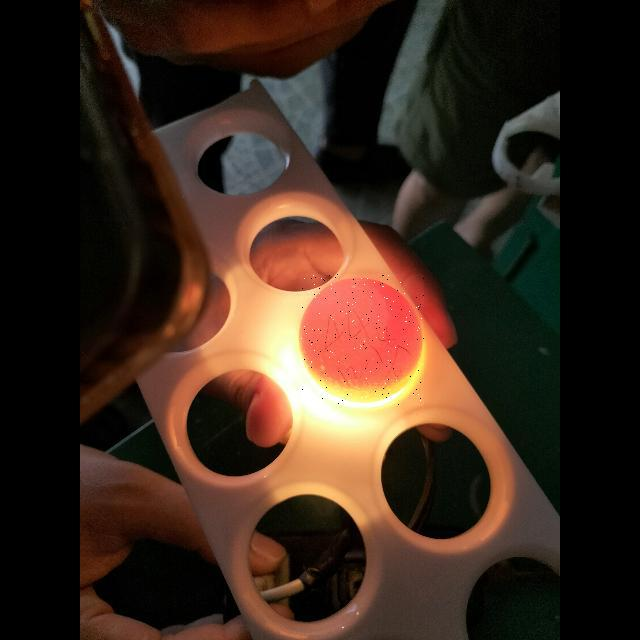Infertile: (300, 274, 424, 406)
